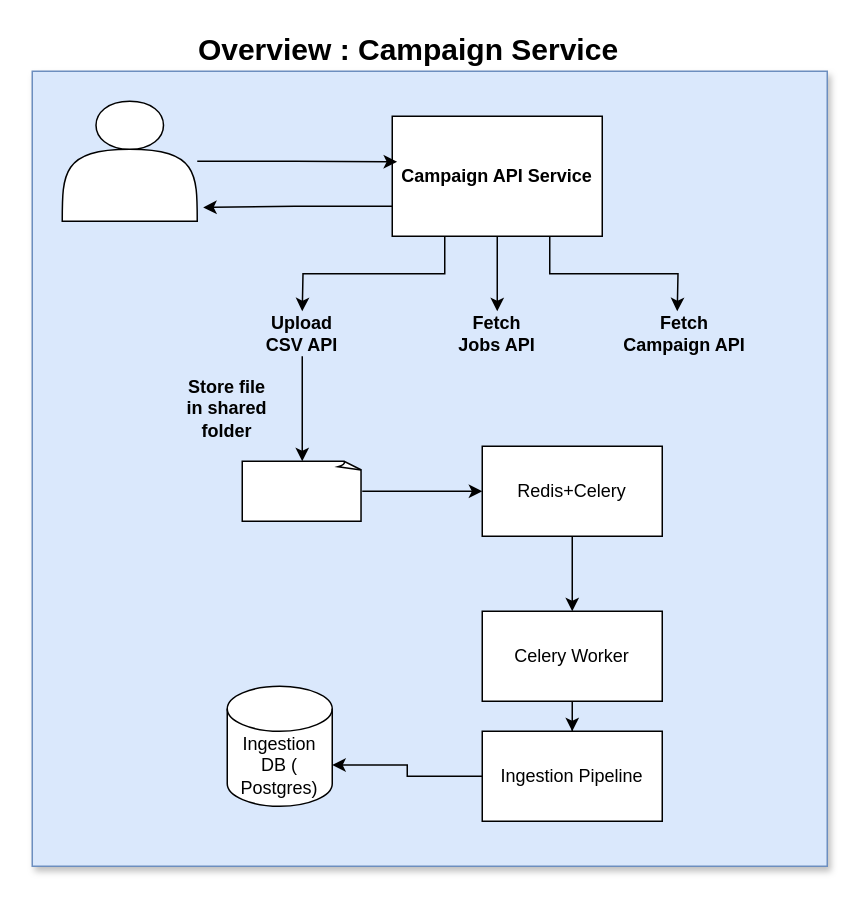
Image size: 863x903. Some labels were removed from this diagram. Here are the shapes that lost their labels. From the top down, the centre of each, then its label:
(129,160): User
(301,490): Uploaded File
